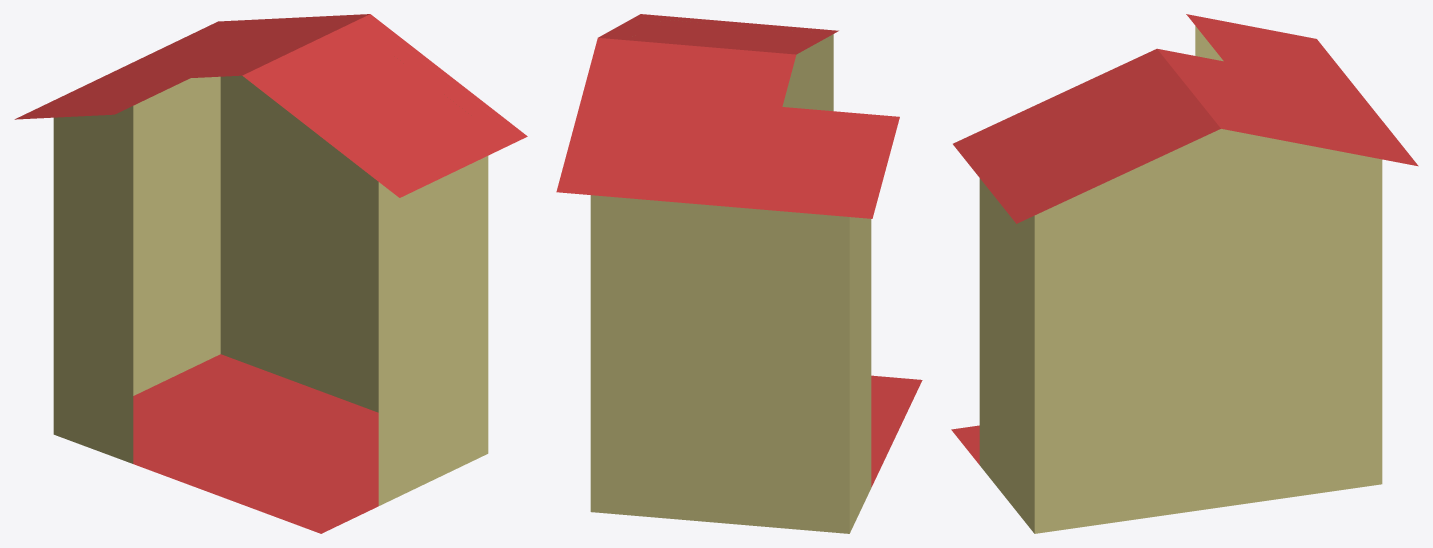
3 renders of one model, left to right at view 1: azimuth 30°, elevation 25°; view 2: azimuth 150°, elevation 25°; view 3: azimuth 270°, elevation 25°, orthographic. The views are drawn at different scales.
Bounding box in the file's own units: 7.6 × 8.13 × 7.5.
